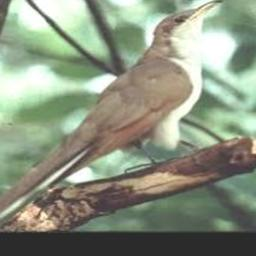Cuckoo: (0, 0, 222, 233)
